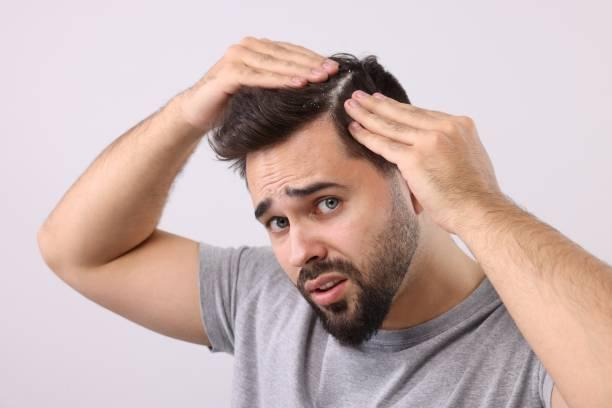dandruff: (295, 95, 341, 112), (345, 68, 355, 75)
